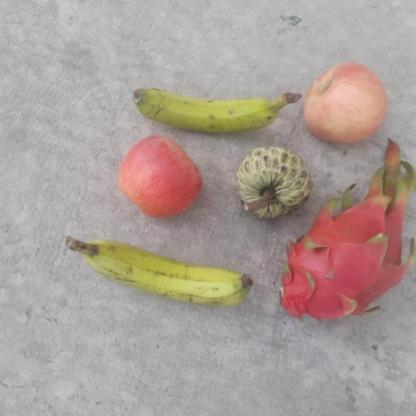annona: (235, 147, 312, 220)
apple: (115, 135, 203, 219), (302, 60, 390, 143)
banana: (64, 235, 254, 308), (133, 82, 305, 134)
pitaya: (279, 192, 407, 322)
